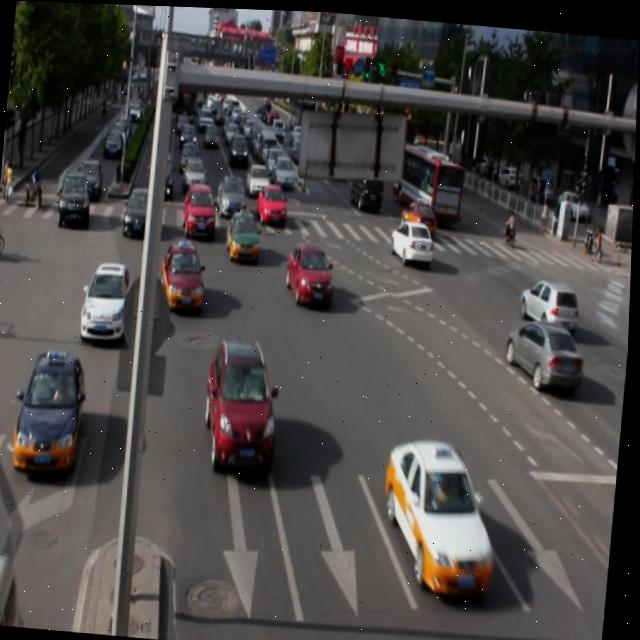car: (380, 432, 506, 596), (203, 334, 286, 473), (16, 347, 91, 476), (504, 311, 588, 389), (82, 257, 135, 344), (518, 271, 582, 330), (286, 240, 340, 307), (161, 238, 210, 310), (226, 206, 265, 262), (391, 213, 436, 261)
truck: (0, 550, 30, 627)
